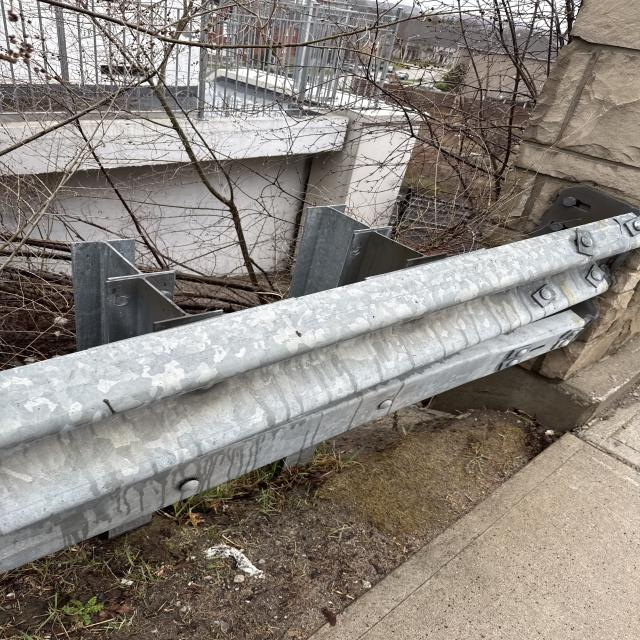Guard rail: (56, 225, 624, 457)
